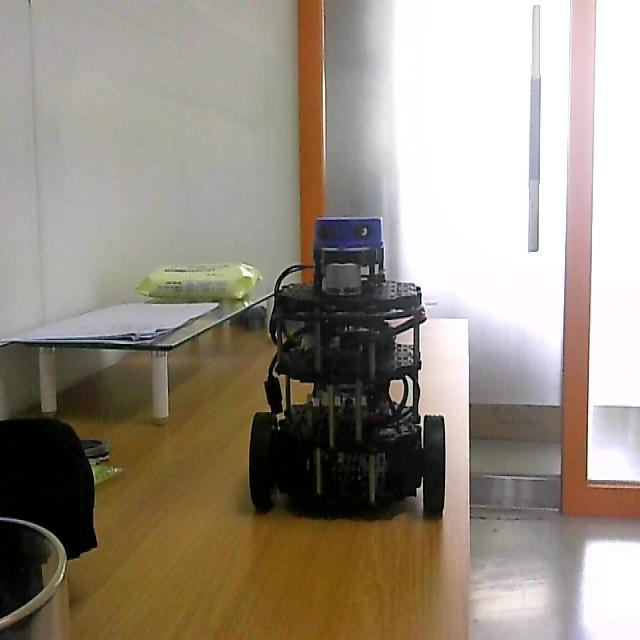turtle: (248, 215, 448, 520)
